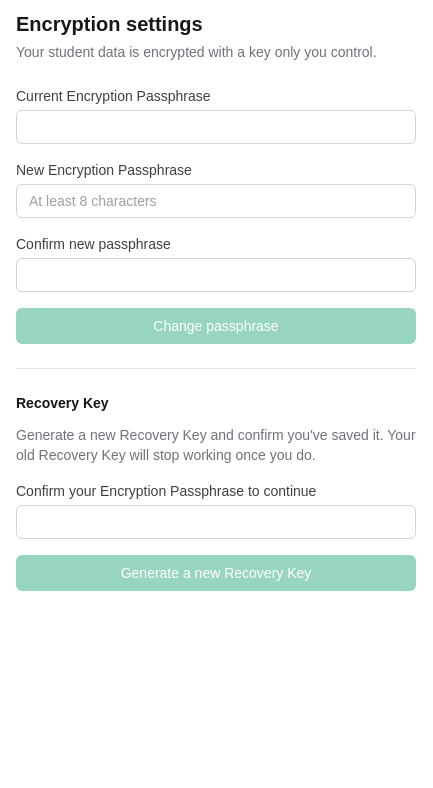
Test: SettingsClient › a returning account (already set up) › Recovery Key reconfirmation (M3-004/FR-AUTH-09) › unwraps the master key, rotates the Recovery Key, and requires confirmation before submitting
Type "my-passphrase" into the password field labelled "Confirm your Encryption Passphrase to continue". click: (216, 522)
box: [16,505,416,539]
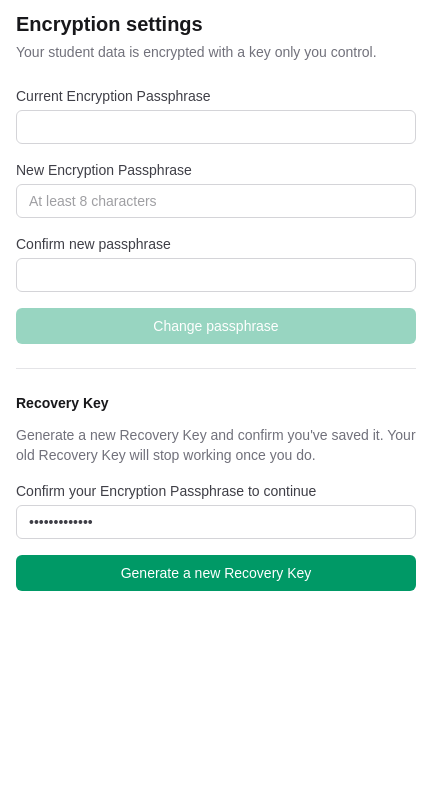
Click the button "Generate a new Recovery Key". click: click(216, 573)
box: [16,555,416,591]
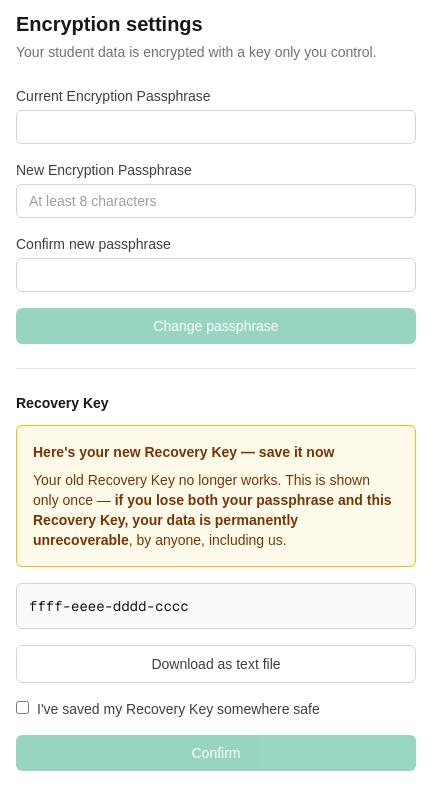
expect the button "Confirm" is disabled: met, box [16,735,416,771]
expect the text "ffff-eeee-dddd-cccc" is shown: met, box [16,583,416,629]
Click the checkbox. click: click(22, 708)
box: [16,701,29,714]
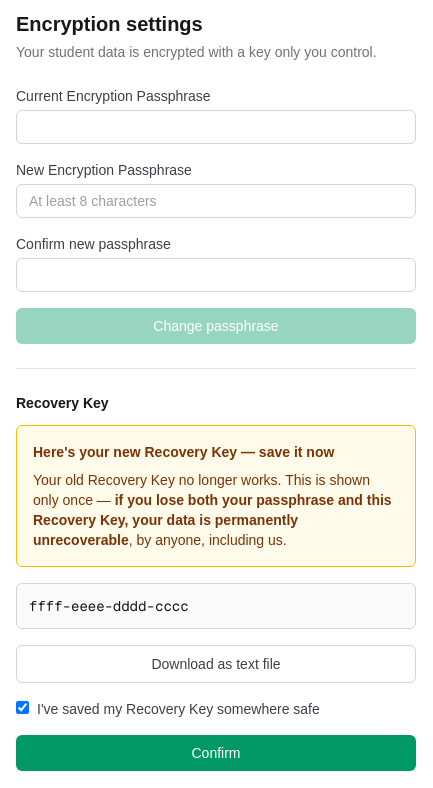
Click the button "Confirm". click: click(216, 753)
box: [16,735,416,771]
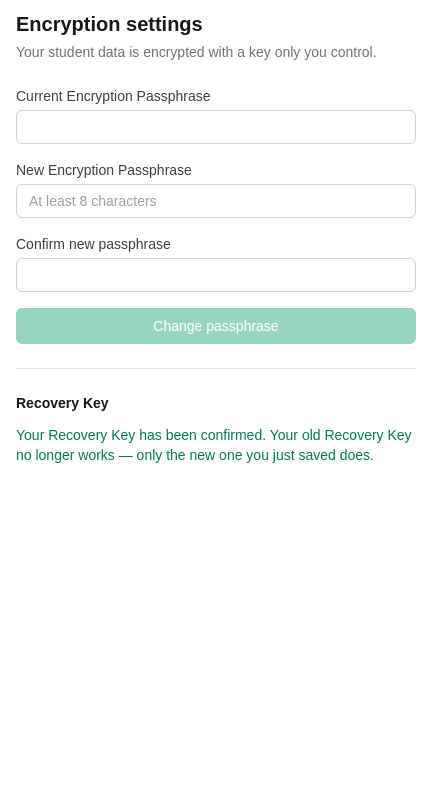
expect the text "Recovery Key has been confirmed" is shown: met, box [16,427,412,463]
